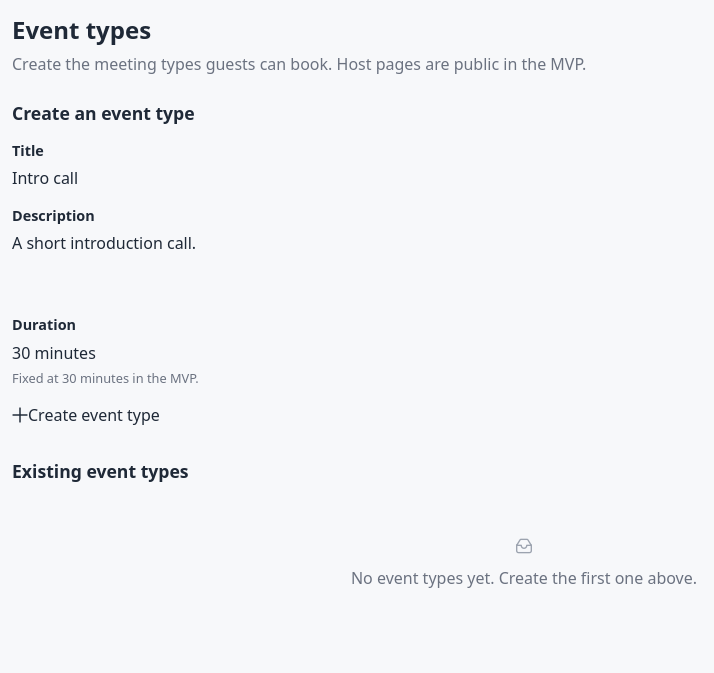
Test: HostEventTypesPage › creates an event type and adds it to the list
Check: the text "No event types yet. Create the first one above." is shown, box [351,566,697,590]
In the field labelled "Title": (252, 178) [12,167,492,189], type "New call"
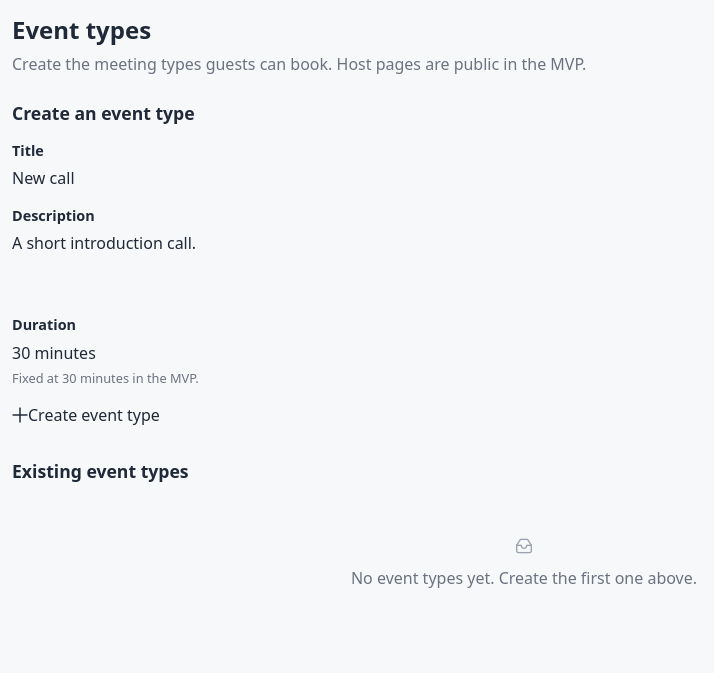
In the text box labelled "Description": (252, 265) [12,232,492,298], type "Desc"
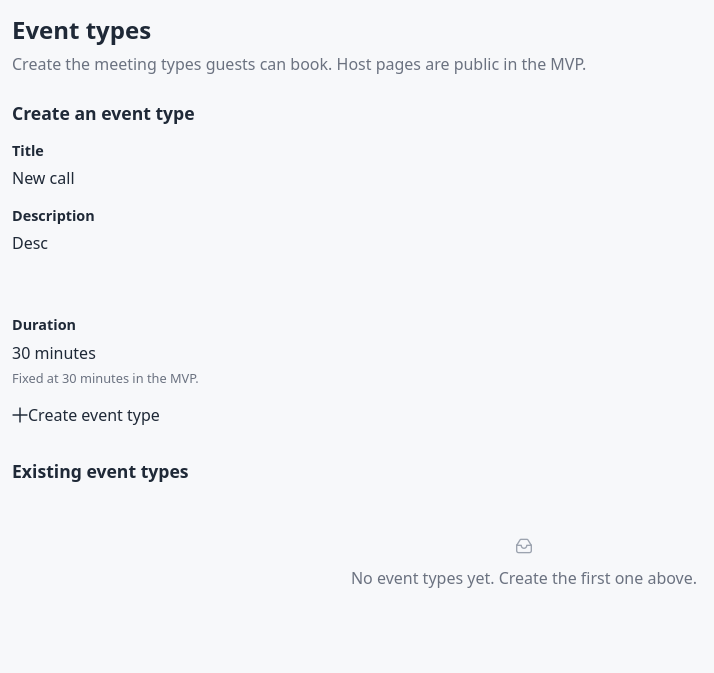
Click the button "Create event type": click(86, 415) [12,404,160,426]
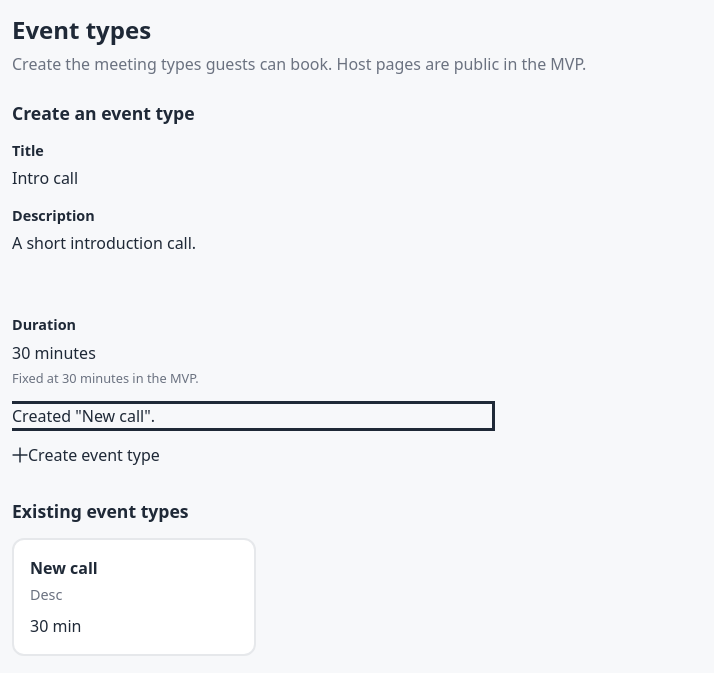
Check: the text "Created \"New call\"." is shown, box [12,404,155,428]
Check: the text "New call" is shown, box [30,557,98,579]
